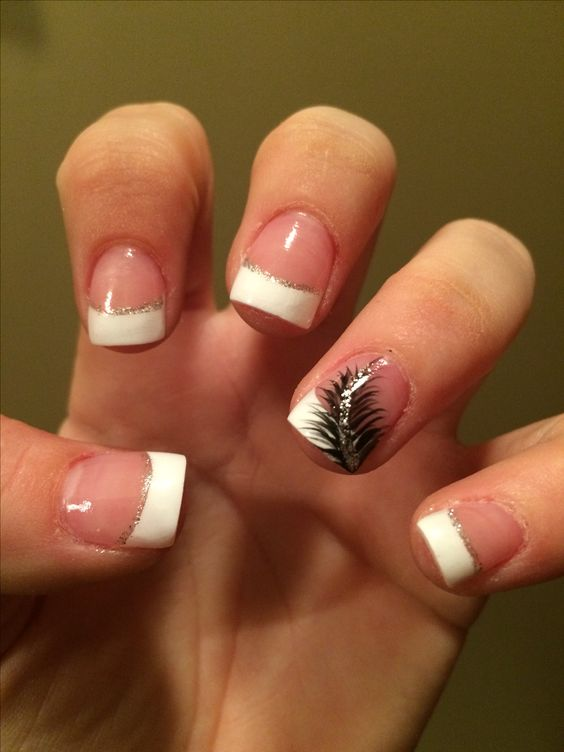nails: (283, 339, 425, 485), (51, 440, 204, 555), (225, 201, 344, 344), (56, 234, 183, 353), (401, 495, 541, 592)
